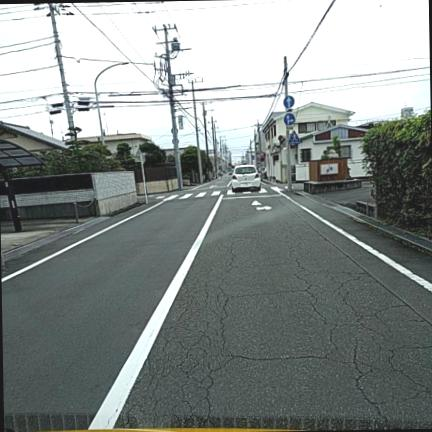Road: (2, 176, 431, 428)
